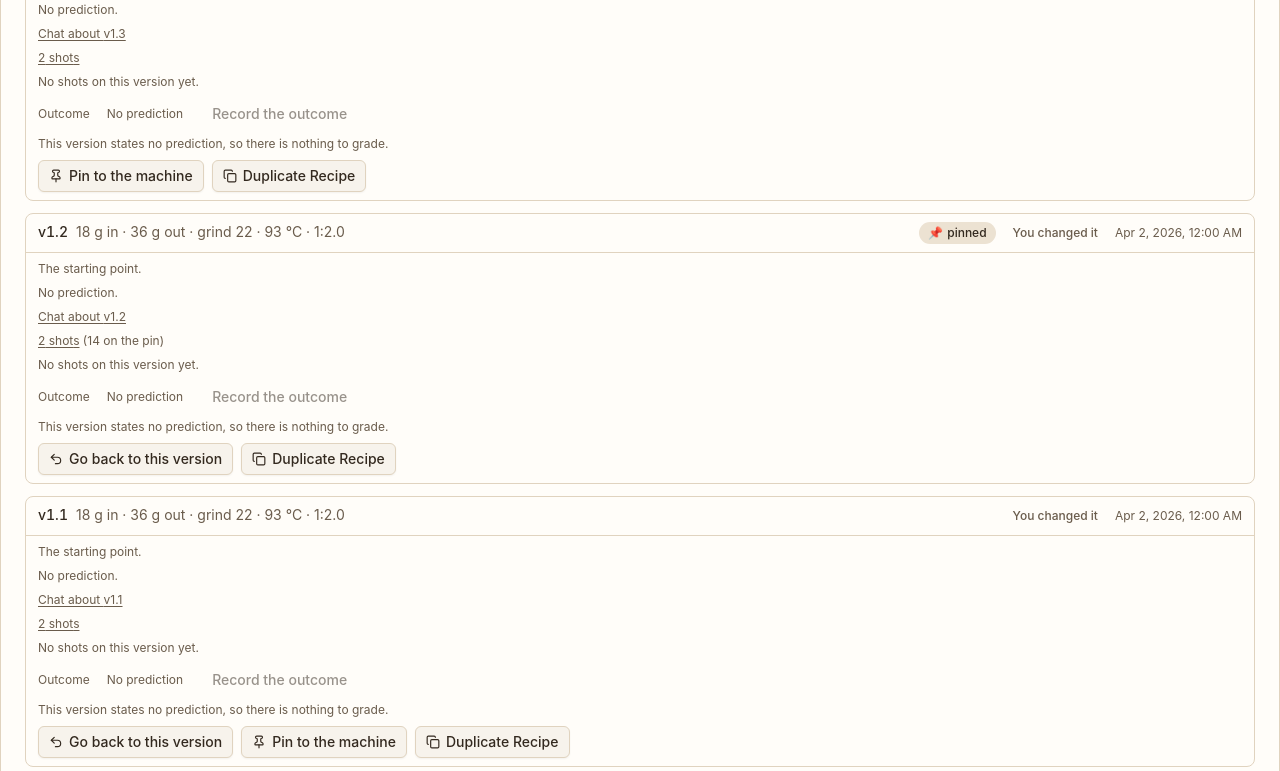
it: the buttons › closing a dialog the page opened leaves the page as it was
(page scrolled)
Click the button with aria-label "Duplicate Recipe: v" at (318, 459), box 241,443 -> 396,475
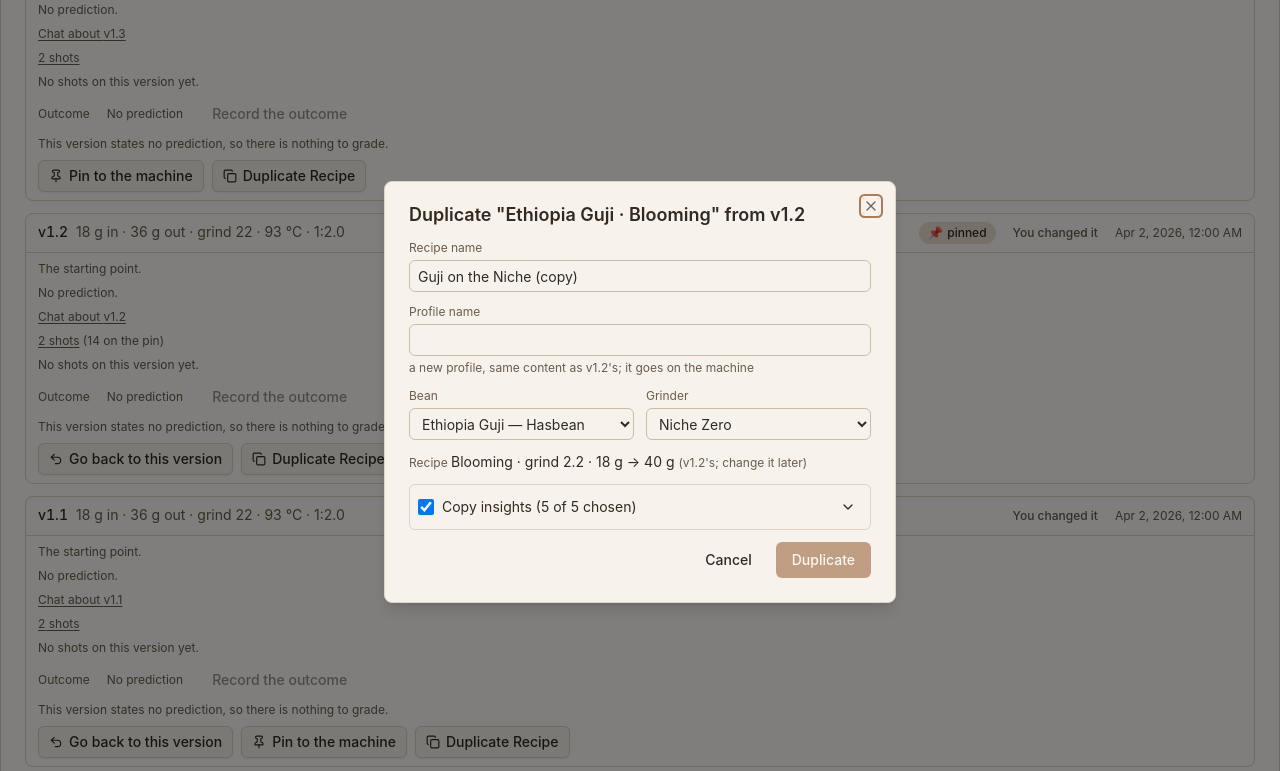
Now the dialog with test id "duplicate-dialog" is shown, box 384,181 -> 896,603
Click the button "Cancel" at (729, 560), box 689,542 -> 768,578
(page scrolled)
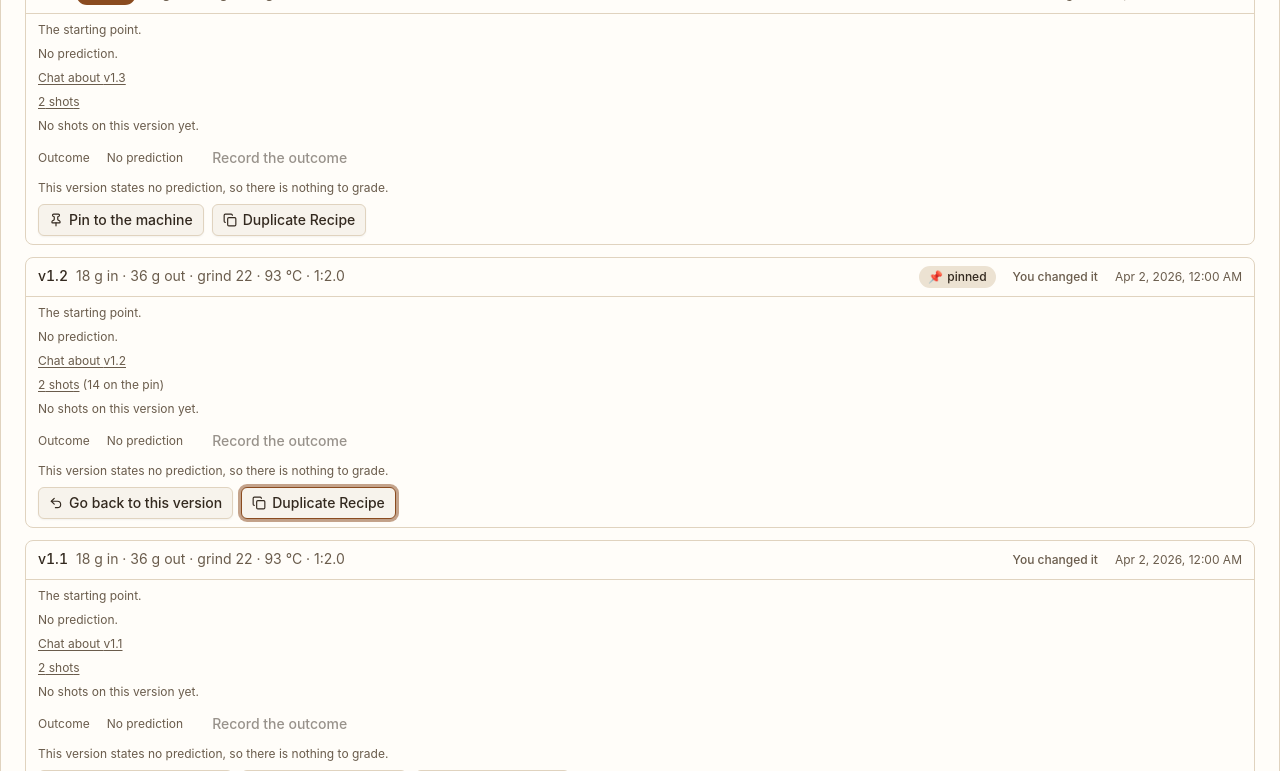
Now the dialog with test id "duplicate-dialog" is gone
